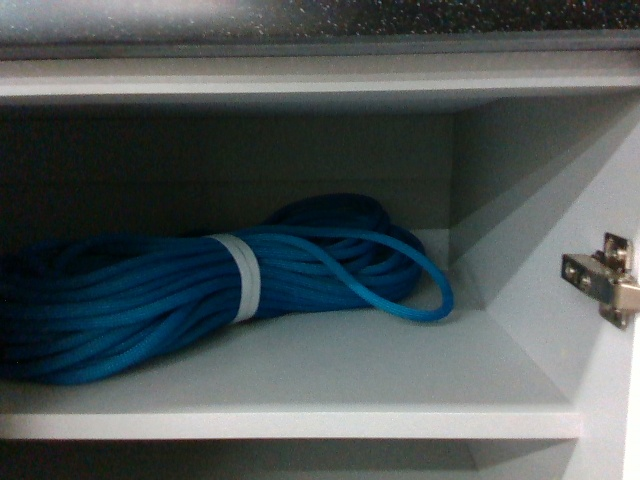rope: (12, 205, 453, 379)
